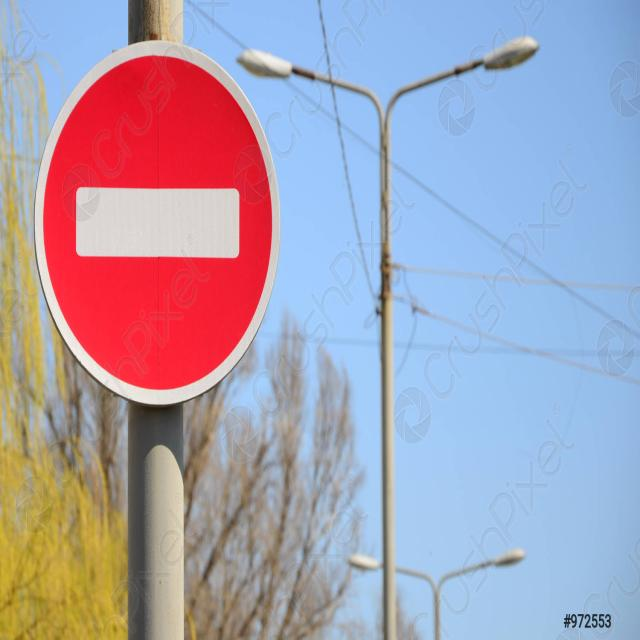NO_ENTRY: (35, 38, 280, 412)
